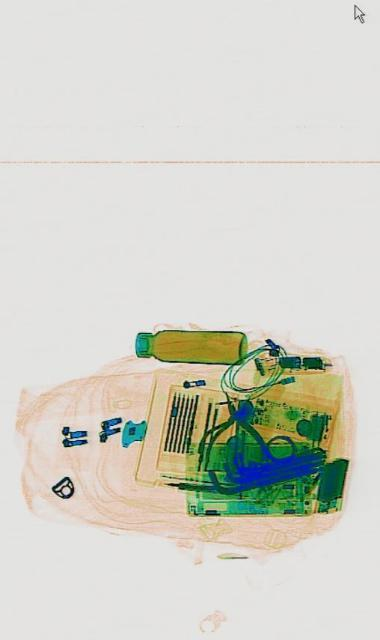Pliers: (200, 389, 269, 476)
